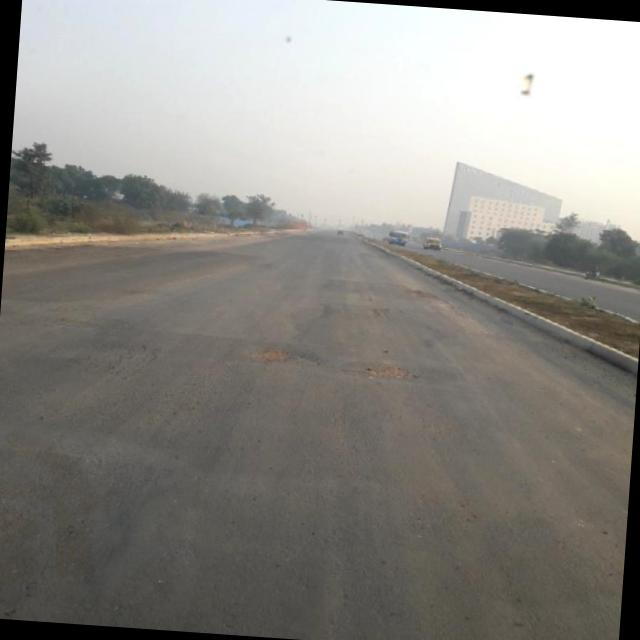crack: (0, 517, 91, 623), (51, 327, 166, 393)
pothole: (353, 358, 420, 384), (255, 342, 322, 366)
